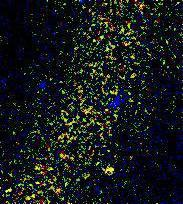star: (92, 157, 122, 187)
